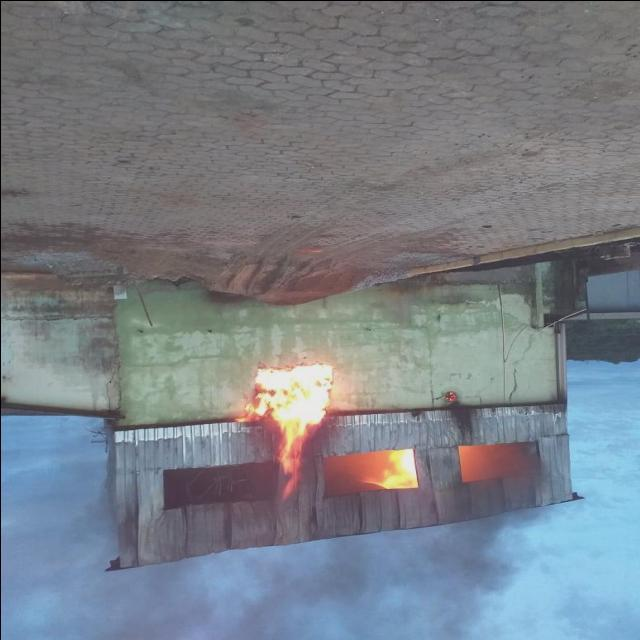Fire: (232, 363, 338, 499), (355, 449, 419, 488)
